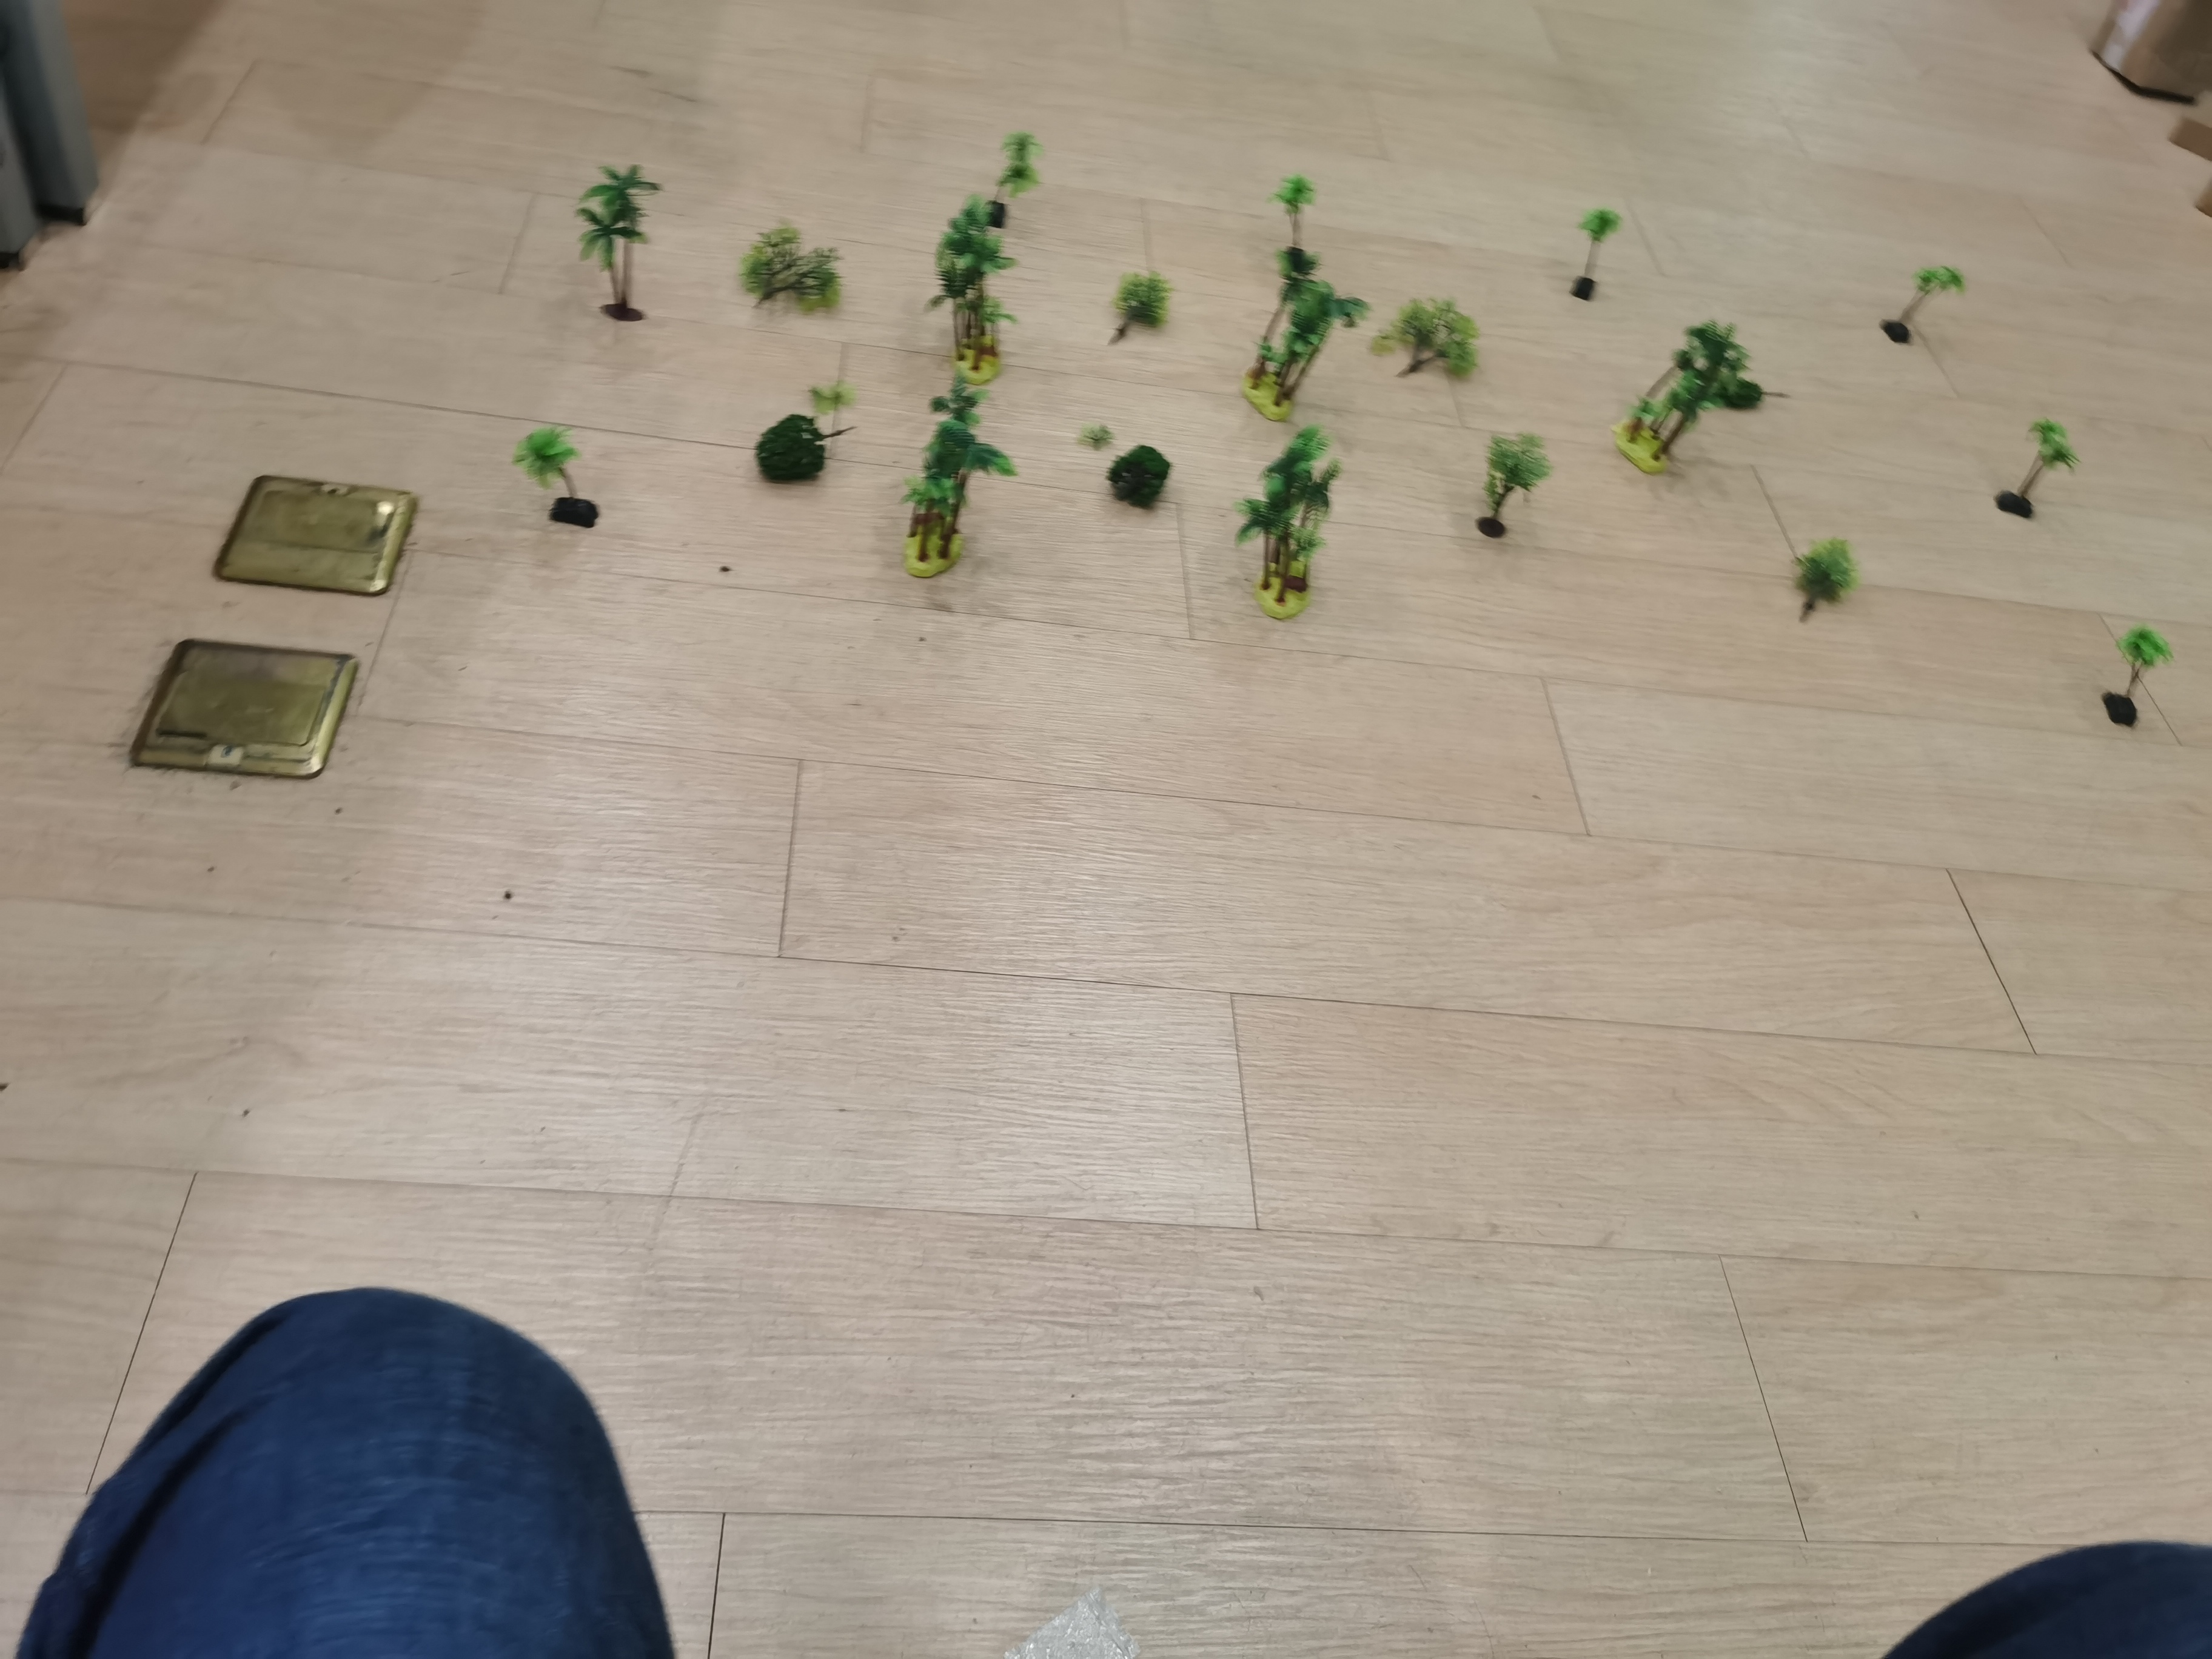corn: (1224, 422, 1364, 612), (1615, 321, 1766, 483), (892, 383, 1008, 579), (1212, 281, 1362, 416), (925, 192, 1022, 382), (573, 153, 678, 321), (509, 420, 610, 532), (2085, 613, 2182, 723), (1874, 253, 1977, 349), (2000, 422, 2097, 514), (1561, 193, 1629, 307), (1258, 181, 1331, 282), (989, 115, 1052, 214)
